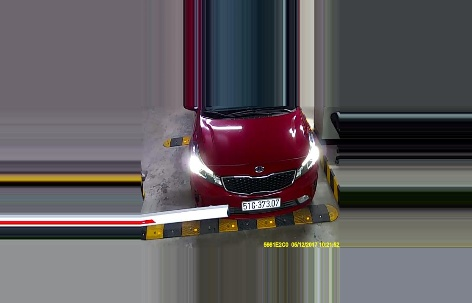plate: (238, 196, 283, 210)
